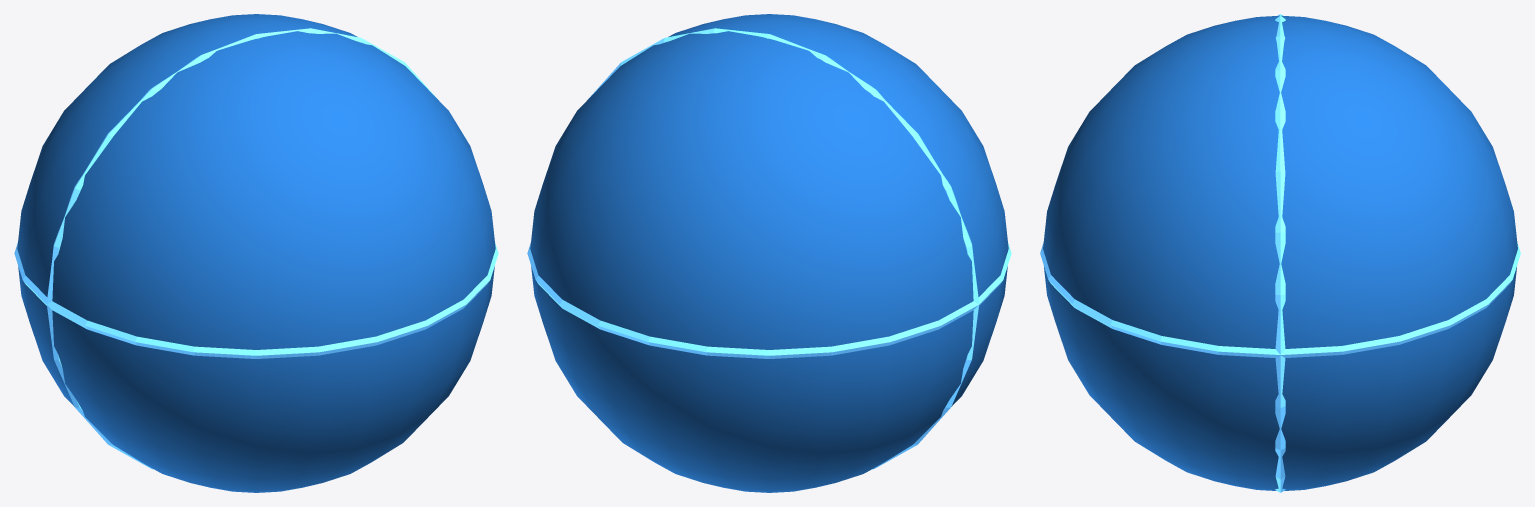
File: ricochet-ball.glb
3 views of the same model, side by side, from view 1: azimuth 30°, elevation 25°; view 2: azimuth 150°, elevation 25°; view 3: azimuth 270°, elevation 25° (orthographic).
Parts seen in each view (by area): view 1: ricochet-ball; view 2: ricochet-ball; view 3: ricochet-ball.
Part boxes in pixels (<box>): ricochet-ball: <box>14,14,498,492</box>; ricochet-ball: <box>527,14,1011,492</box>; ricochet-ball: <box>1040,14,1520,492</box>.
Bounding box in the file's own units: 2.02 × 2.02 × 2.02.
